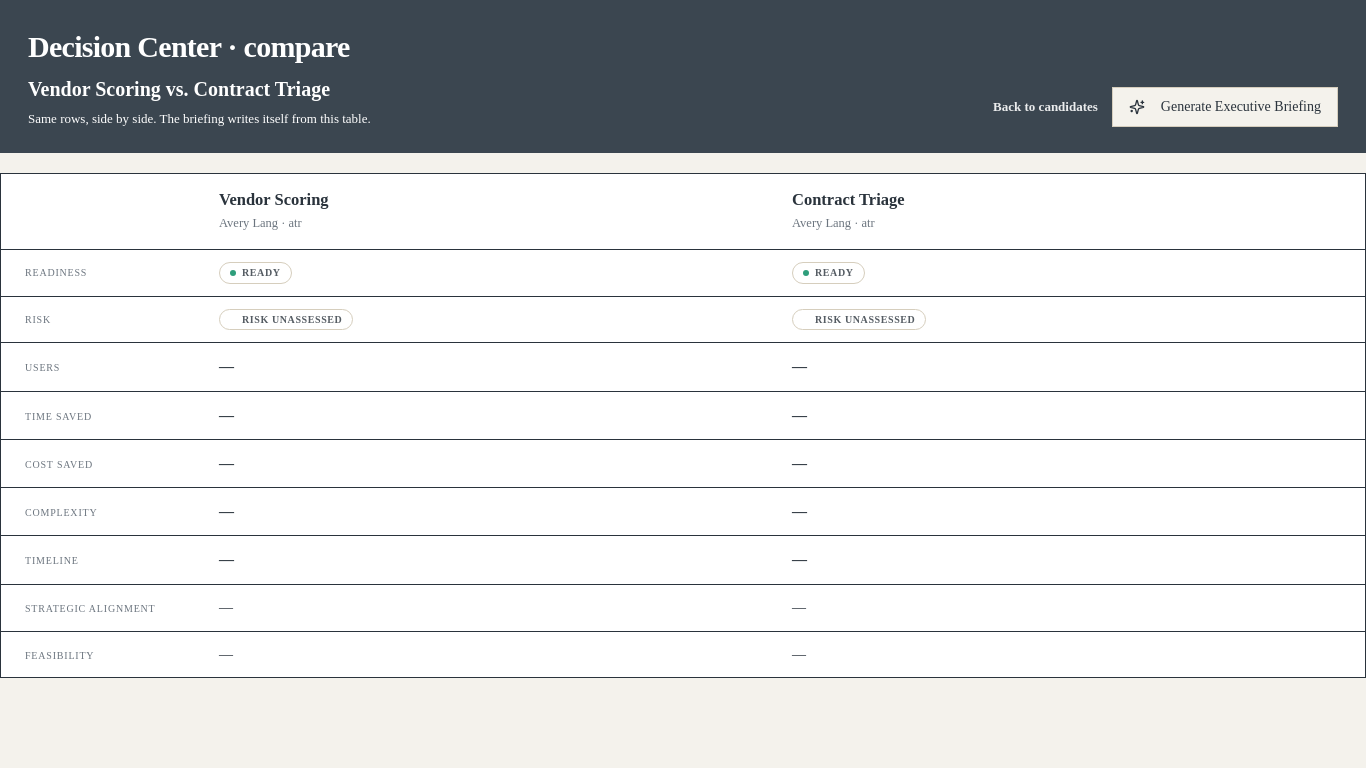
it: with the switch off the comparison view is as today › doc: no Add to portfolio report, and the same markup as before
Click the button "Generate Executive Briefing" at (1225, 106), box [1112,86,1338,126]
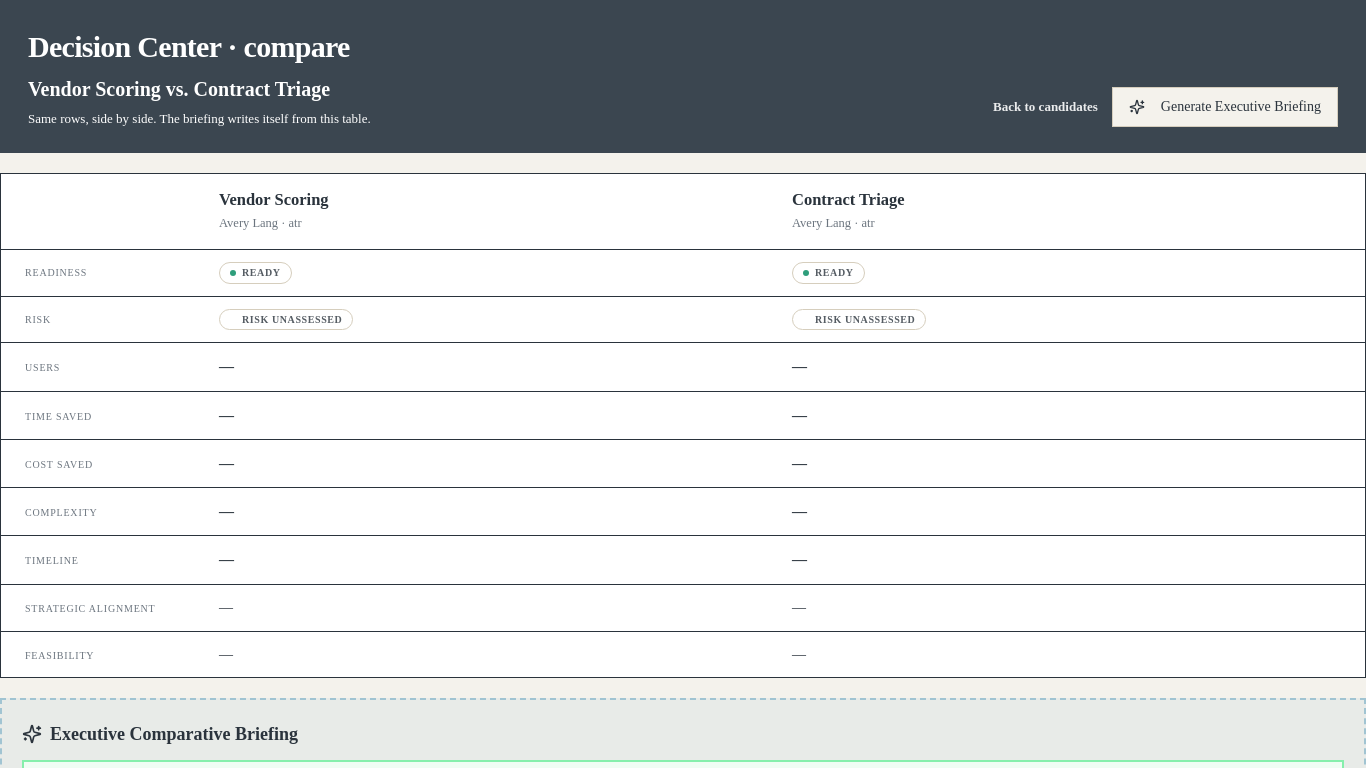
Now the text "Executive Comparative Briefing" is shown, box [22,724,298,744]
